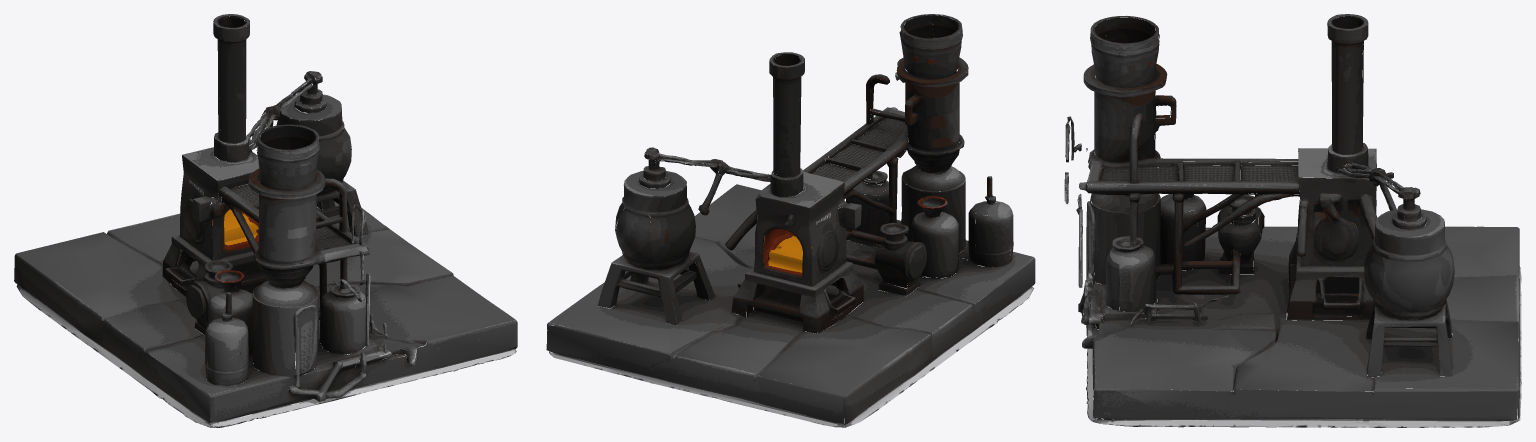
Rendered from refinery.glb.
The picture shows the model from 3 angles, left to right: view 1: azimuth 30°, elevation 25°; view 2: azimuth 150°, elevation 25°; view 3: azimuth 270°, elevation 25°; orthographic projection. The views are drawn at different scales.
Parts seen in each view (by area): view 1: refinery; view 2: refinery; view 3: refinery.
Boxes of the visible parts, x1,y1,x2,y2 form: refinery: (14, 14, 517, 427); refinery: (546, 14, 1035, 427); refinery: (1064, 14, 1521, 427).
Size of the model in its own units: 2.26 by 1.98 by 2.6.
Materials: 1 (1 with a texture image).
